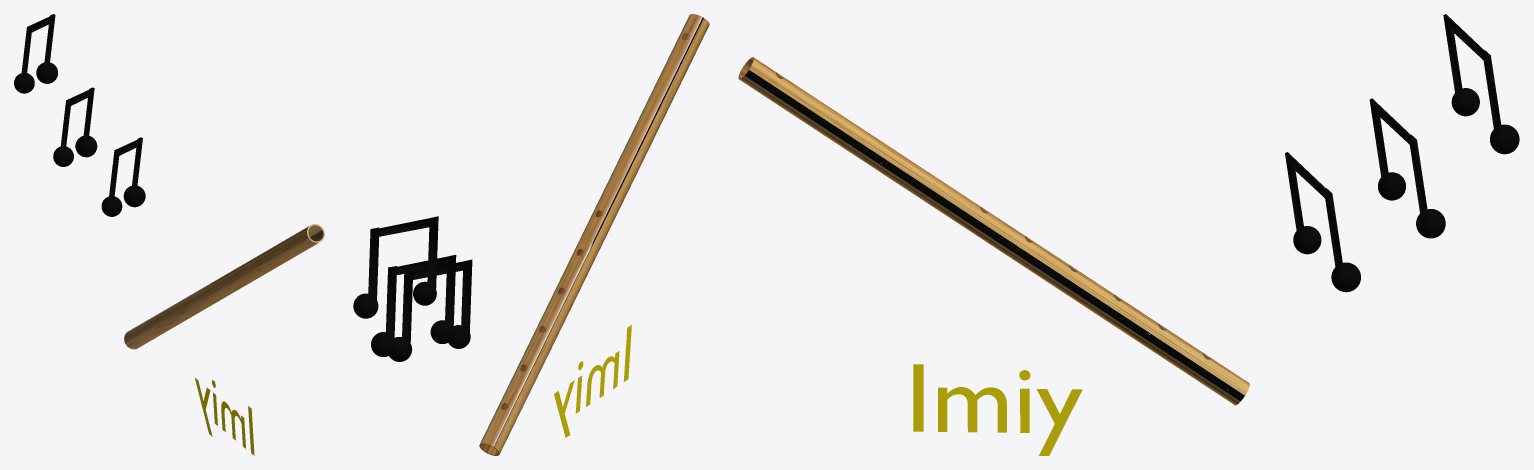
Rendered from flauta.glb.
The picture shows the model from 3 angles, left to right: view 1: azimuth 30°, elevation 25°; view 2: azimuth 150°, elevation 25°; view 3: azimuth 270°, elevation 25°; orthographic projection. The views are drawn at different scales.
Visible parts, largest first — view 1: flauta, nota musical.002, nota musical.004, nota musical.001, Texto; view 2: flauta, nota musical.002, nota musical.001, nota musical.004, Texto; view 3: flauta, Texto, nota musical.002, nota musical.004, nota musical.001.
Boxes of the visible parts, x1=… form: flauta: x1=124, y1=224, x2=324, y2=349; nota musical.002: x1=14, y1=14, x2=57, y2=93; nota musical.004: x1=101, y1=137, x2=145, y2=216; nota musical.001: x1=53, y1=87, x2=97, y2=166; Texto: x1=194, y1=377, x2=254, y2=455; flauta: x1=479, y1=14, x2=709, y2=455; nota musical.002: x1=353, y1=216, x2=438, y2=318; nota musical.001: x1=371, y1=254, x2=456, y2=356; nota musical.004: x1=389, y1=259, x2=472, y2=361; Texto: x1=554, y1=325, x2=631, y2=437; flauta: x1=738, y1=57, x2=1249, y2=405; Texto: x1=913, y1=364, x2=1082, y2=455; nota musical.002: x1=1443, y1=14, x2=1519, y2=154; nota musical.004: x1=1285, y1=152, x2=1360, y2=292; nota musical.001: x1=1369, y1=98, x2=1445, y2=238.
Size of the model in its own units: 2.47 by 8.59 by 14.54.
3 materials, 1 textured.
